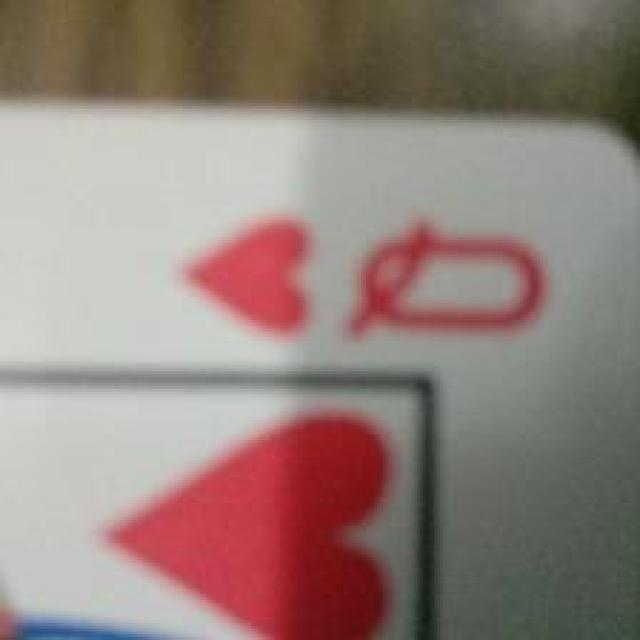Queen of hearts: (0, 104, 640, 640)
